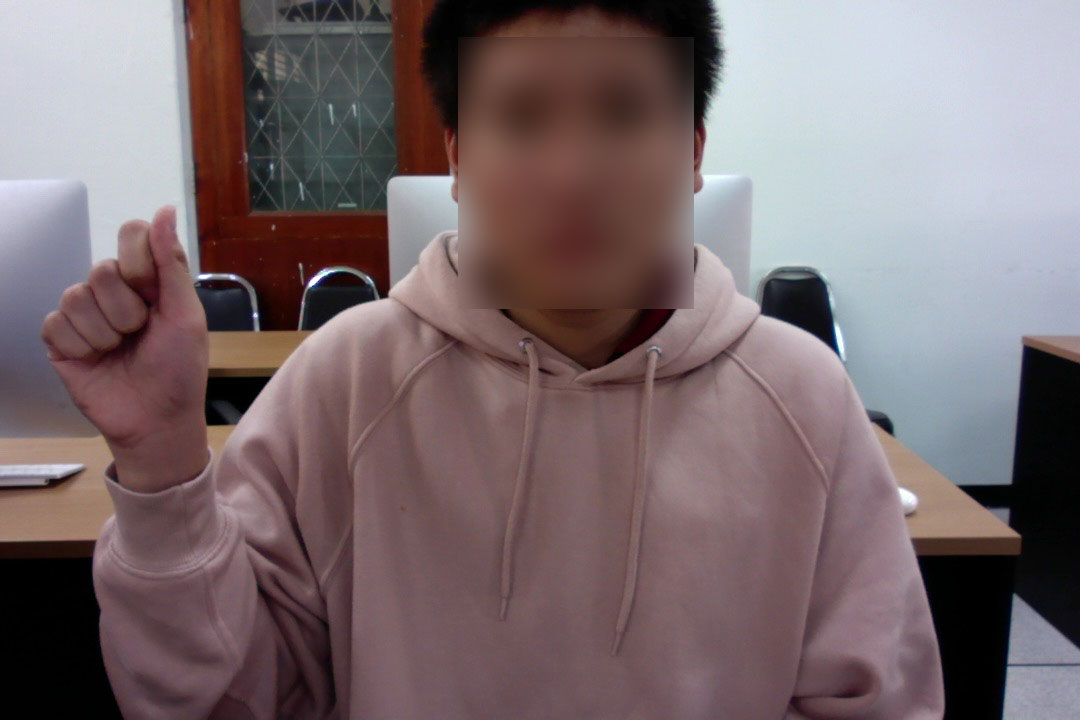or: (29, 194, 220, 457)
